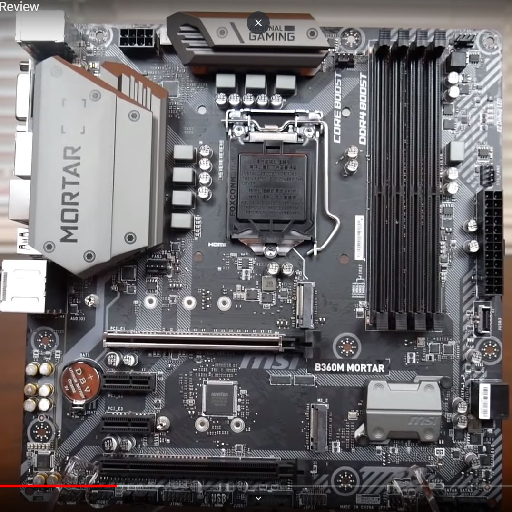CPU: (224, 130, 319, 260)
GPU: (99, 326, 323, 364), (99, 452, 316, 491)
MOTHERBOARD: (6, 15, 506, 508)
RAM: (366, 26, 447, 337)
SSD: (292, 278, 317, 328), (306, 402, 330, 452)
